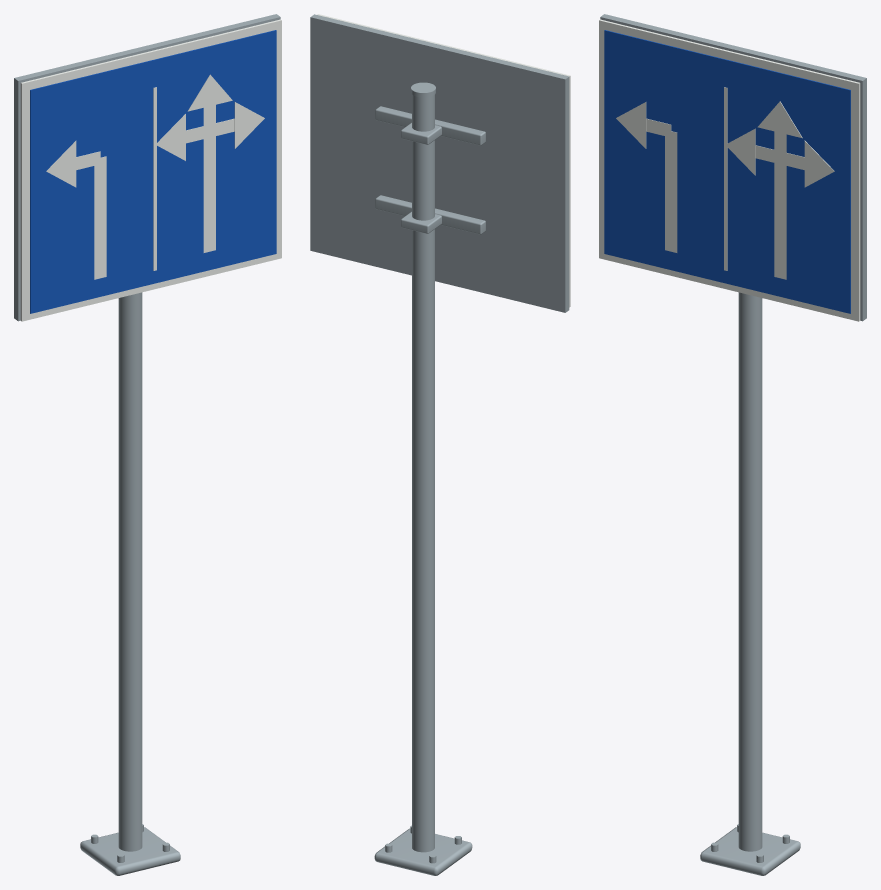
Rendered from DS_Sign_LaneDir_L_LSR.glb.
The picture shows the model from 3 angles, left to right: view 1: azimuth 30°, elevation 25°; view 2: azimuth 150°, elevation 25°; view 3: azimuth 330°, elevation 25°; orthographic projection. The views are drawn at different scales.
Visible parts, largest first — view 1: Face_Field.021, Post.028, Face_Border.021, Plate_Back.036, BasePlate.028, LaneStem0.002, LaneStem0.003, ArrowHead.006, ArrowHead.003, ArrowHead.004, ArrowHead.005, LaneDivider0.001; view 2: Plate_Back.036, Post.028, BasePlate.028, RearRail.060, RearRail.059, Face_Border.021, PostClamp.055, PostClamp.056; view 3: Face_Field.021, Post.028, Face_Border.021, Plate_Back.036, BasePlate.028, LaneStem0.003, LaneStem0.002, ArrowHead.003, ArrowHead.006, ArrowHead.005, ArrowHead.004, LaneDivider0.001.
Part boxes in pixels (bbox=[...]): Face_Field.021: bbox=[30, 30, 276, 313]; Post.028: bbox=[118, 292, 142, 851]; Face_Border.021: bbox=[20, 19, 281, 321]; Plate_Back.036: bbox=[14, 14, 280, 321]; BasePlate.028: bbox=[80, 827, 180, 875]; LaneStem0.002: bbox=[94, 179, 106, 279]; LaneStem0.003: bbox=[203, 152, 215, 252]; ArrowHead.006: bbox=[234, 102, 264, 148]; ArrowHead.003: bbox=[46, 140, 76, 187]; ArrowHead.004: bbox=[187, 74, 232, 111]; ArrowHead.005: bbox=[155, 114, 185, 160]; LaneDivider0.001: bbox=[153, 87, 156, 270]; Plate_Back.036: bbox=[310, 14, 569, 312]; Post.028: bbox=[412, 94, 434, 852]; BasePlate.028: bbox=[374, 828, 472, 875]; RearRail.060: bbox=[375, 106, 485, 145]; RearRail.059: bbox=[375, 195, 485, 234]; Face_Border.021: bbox=[317, 14, 570, 307]; PostClamp.055: bbox=[401, 211, 441, 233]; PostClamp.056: bbox=[401, 122, 441, 144]; Face_Field.021: bbox=[604, 30, 850, 313]; Post.028: bbox=[738, 292, 762, 851]; Face_Border.021: bbox=[599, 19, 860, 321]; Plate_Back.036: bbox=[600, 14, 866, 321]; BasePlate.028: bbox=[700, 827, 800, 875]; LaneStem0.003: bbox=[774, 179, 786, 279]; LaneStem0.002: bbox=[665, 152, 677, 252]; ArrowHead.003: bbox=[616, 102, 646, 148]; ArrowHead.006: bbox=[804, 140, 834, 187]; ArrowHead.005: bbox=[725, 128, 755, 175]; ArrowHead.004: bbox=[757, 101, 802, 138]; LaneDivider0.001: bbox=[724, 87, 727, 270].
Size of the model in its own units: 0.96 by 2.87 by 0.28.
